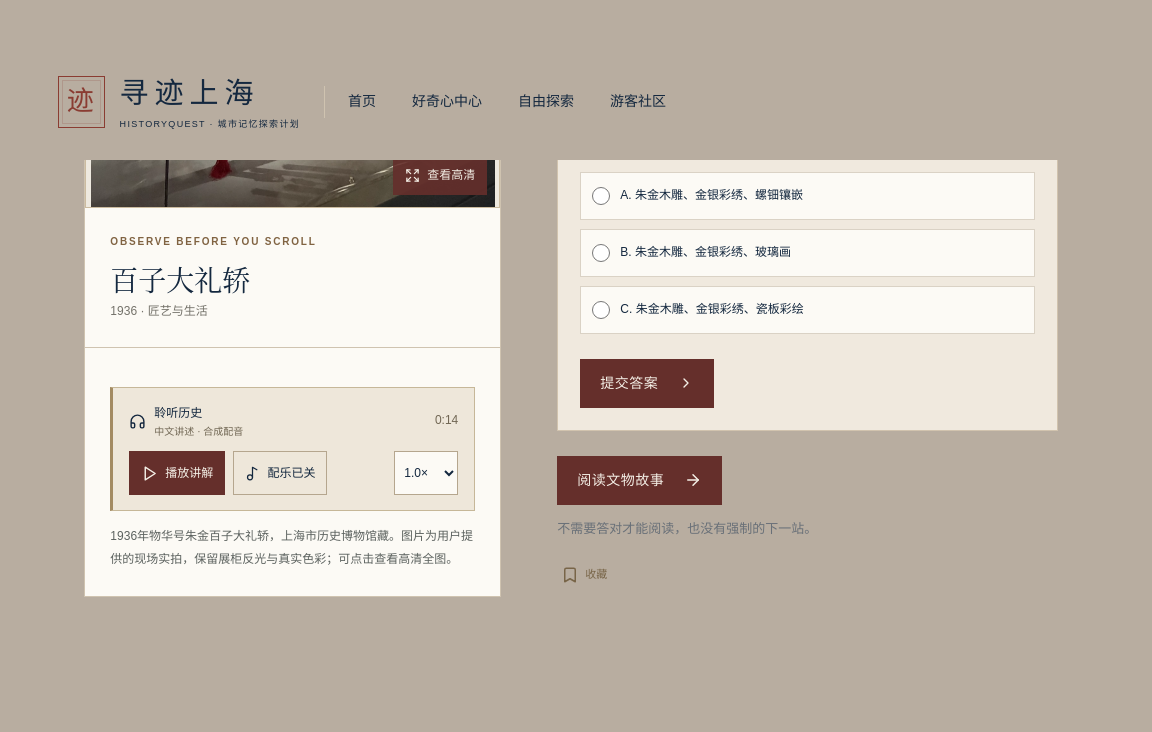
opens story without answering after removing only the chair skip entry
(page scrolled)
Click the button "阅读文物故事".
click(640, 480)  # box [557,456,722,505]
(page scrolled)
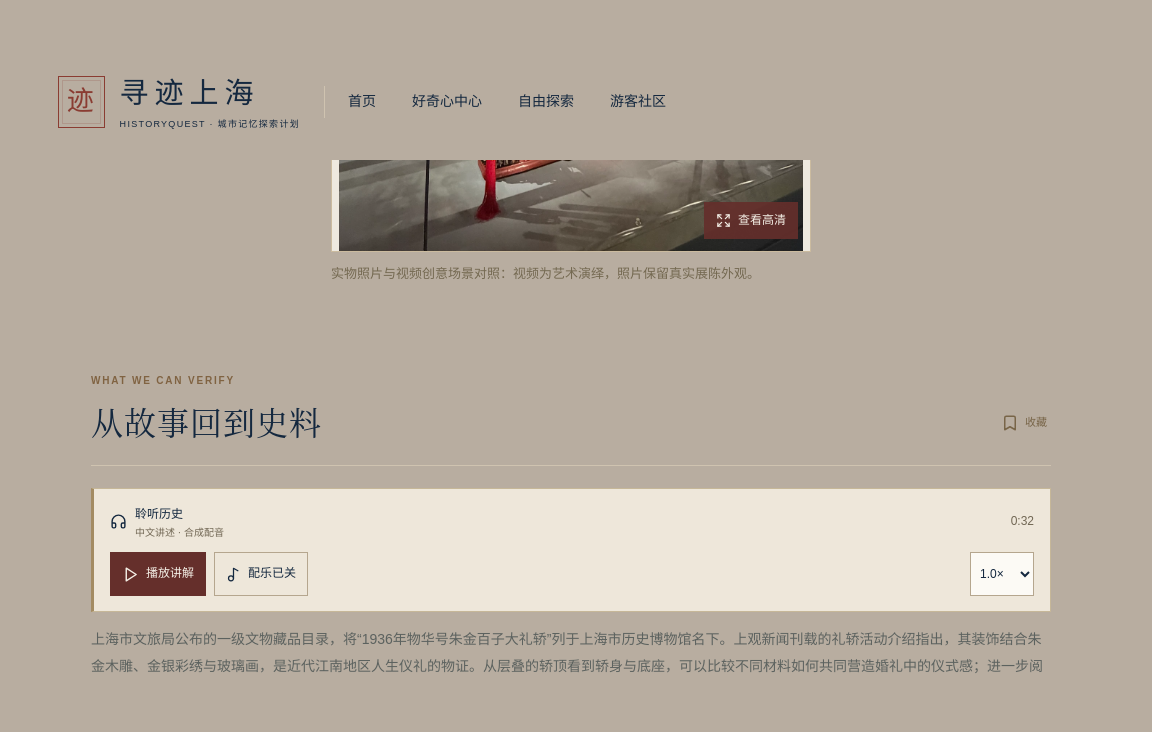
Now the heading "从故事回到史料" is shown, box [91,397,322,445]
